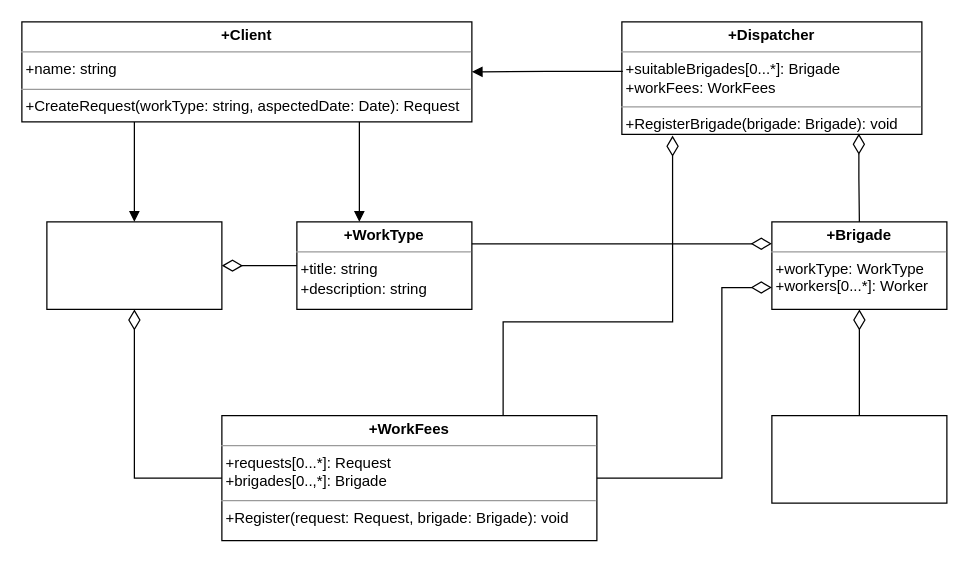
Some shapes in this 969 by 563 pixel diagram are drawn without their labels. Each missing label, with the centre of its shape:
+Request +workType: WorkType +aspectedDate: Date: point 134,265
+Worker +fullName: string +salary: uint: point 859,458
